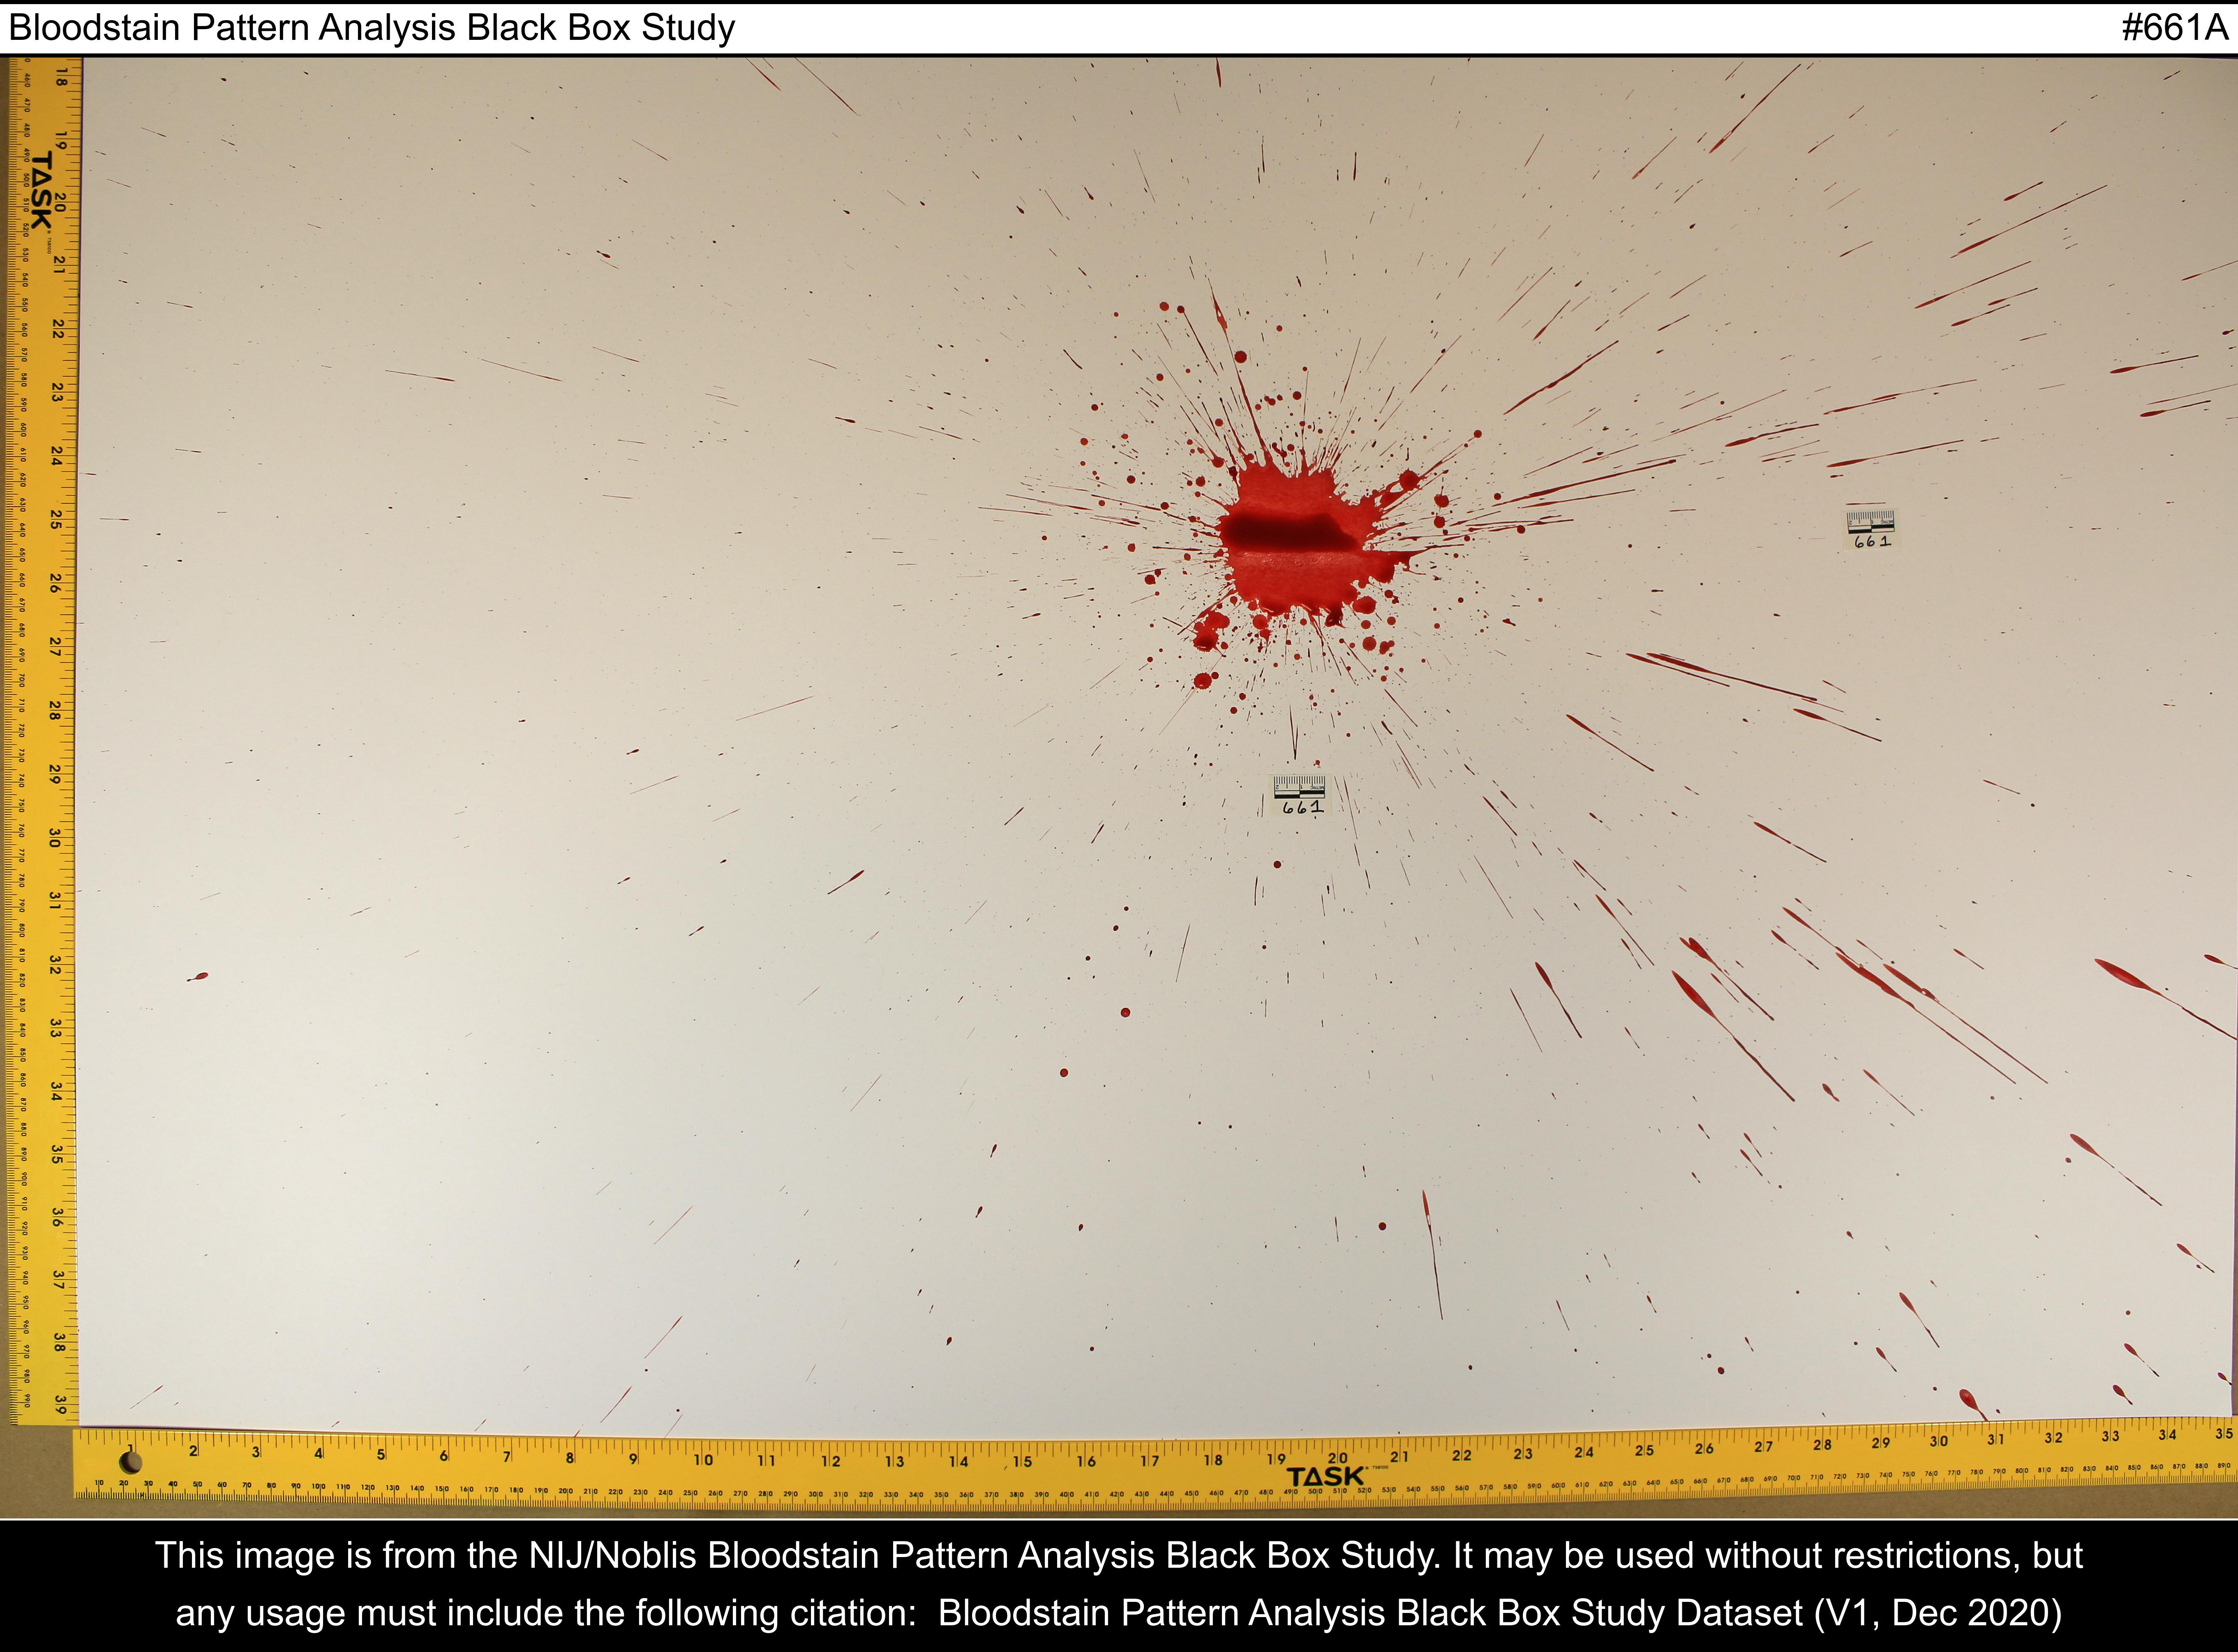Transfer: (1126, 394, 1467, 710)
